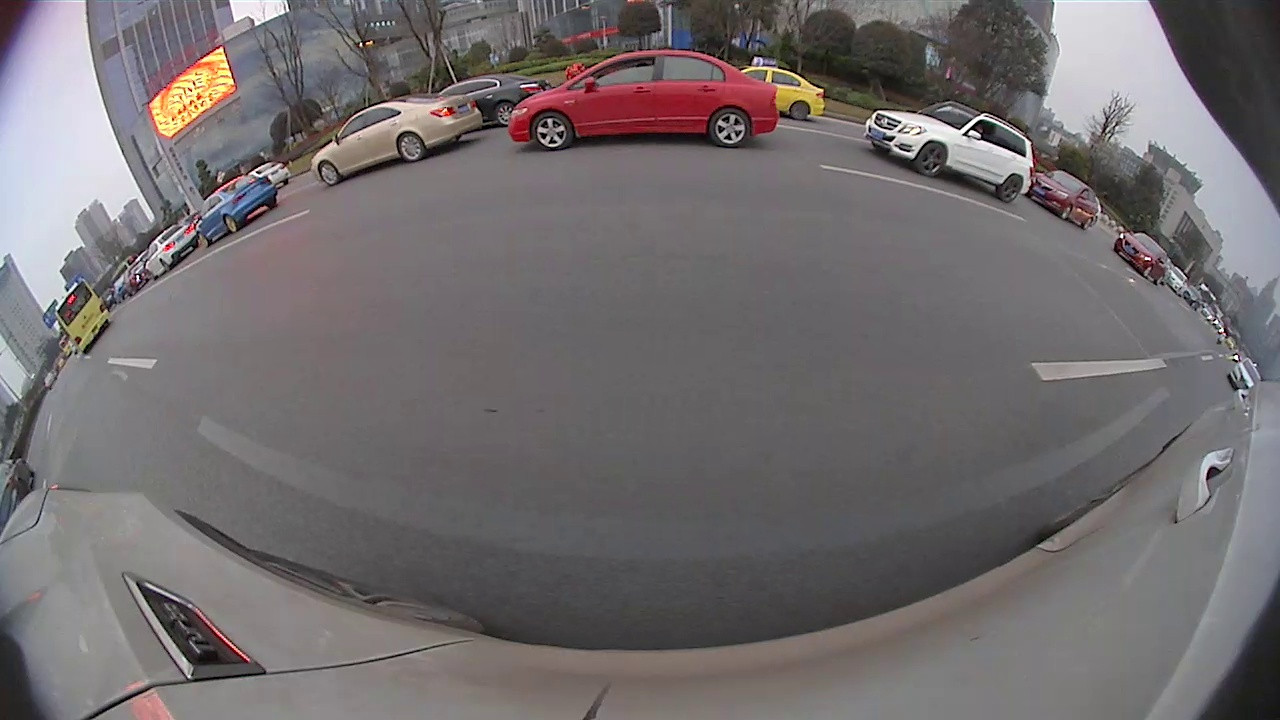bus: (53, 276, 114, 354)
car: (507, 49, 781, 154), (864, 99, 1030, 206), (311, 92, 482, 188), (192, 176, 282, 248), (736, 54, 825, 123), (442, 73, 547, 128), (1027, 169, 1098, 232), (142, 223, 199, 282), (1113, 231, 1168, 285), (243, 158, 295, 184)
front: (528, 107, 573, 154), (911, 138, 948, 178), (317, 161, 341, 187), (196, 231, 213, 250)
rear: (707, 105, 751, 149), (992, 173, 1026, 204), (396, 132, 426, 163), (490, 102, 514, 132), (786, 97, 810, 124), (263, 193, 281, 211), (223, 216, 241, 233)
